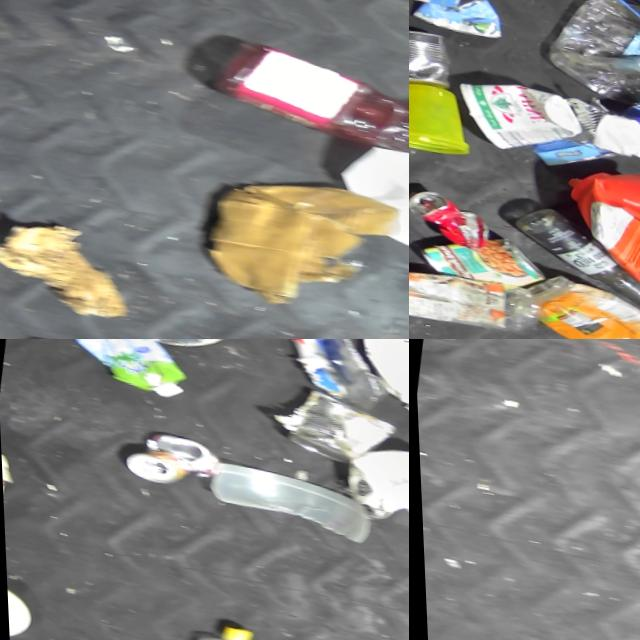can: (520, 78, 636, 175), (274, 382, 398, 468), (409, 217, 549, 289), (333, 430, 409, 529), (116, 422, 220, 494), (409, 180, 491, 248), (409, 16, 457, 91)
milk_jug: (326, 134, 409, 273), (345, 339, 409, 418)
non_white_jug: (545, 153, 640, 285), (537, 0, 640, 107), (56, 339, 196, 399), (616, 68, 640, 143)
plastic_bottle: (409, 236, 542, 339), (257, 339, 401, 411), (167, 610, 270, 640)
